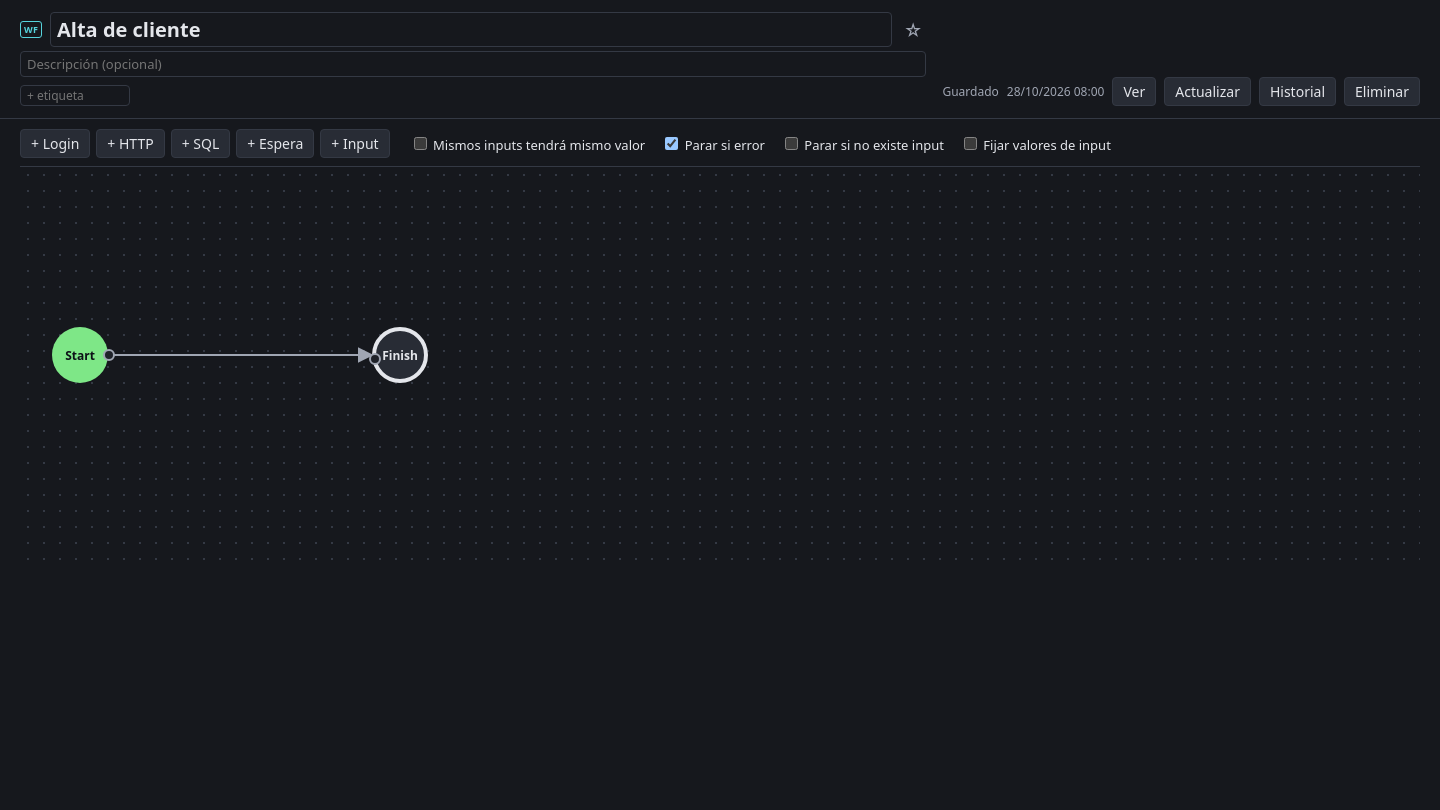
notas workflow › W-14 W-29 sin selección, «+ Login» deja el nodo suelto y su «Usuario» se guarda en values.user
Click the button "+ Login" at (55, 144), box [20,129,90,158]
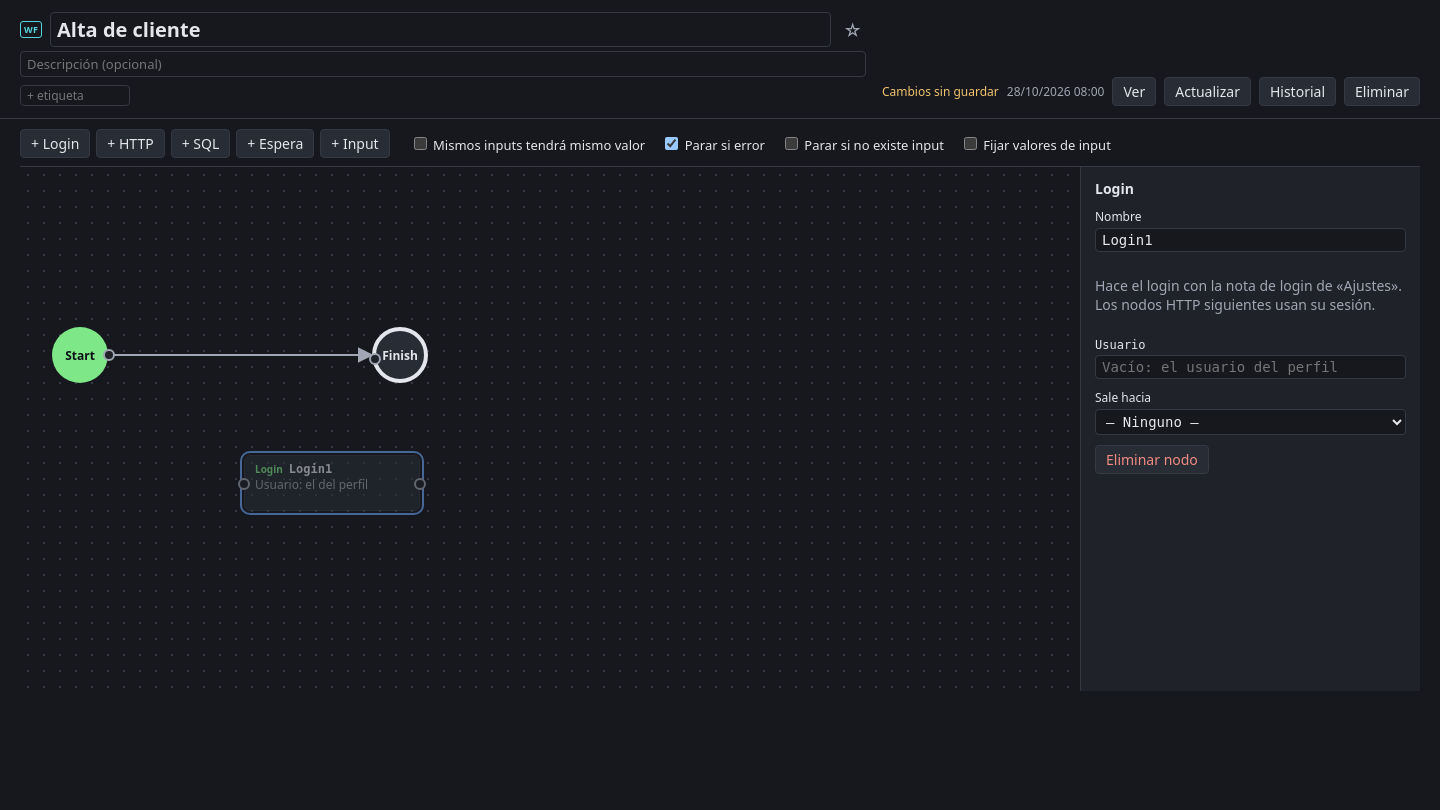
Type "$Input1.user" into the field labelled "Usuario" at (1250, 367), box [1095,355,1406,379]
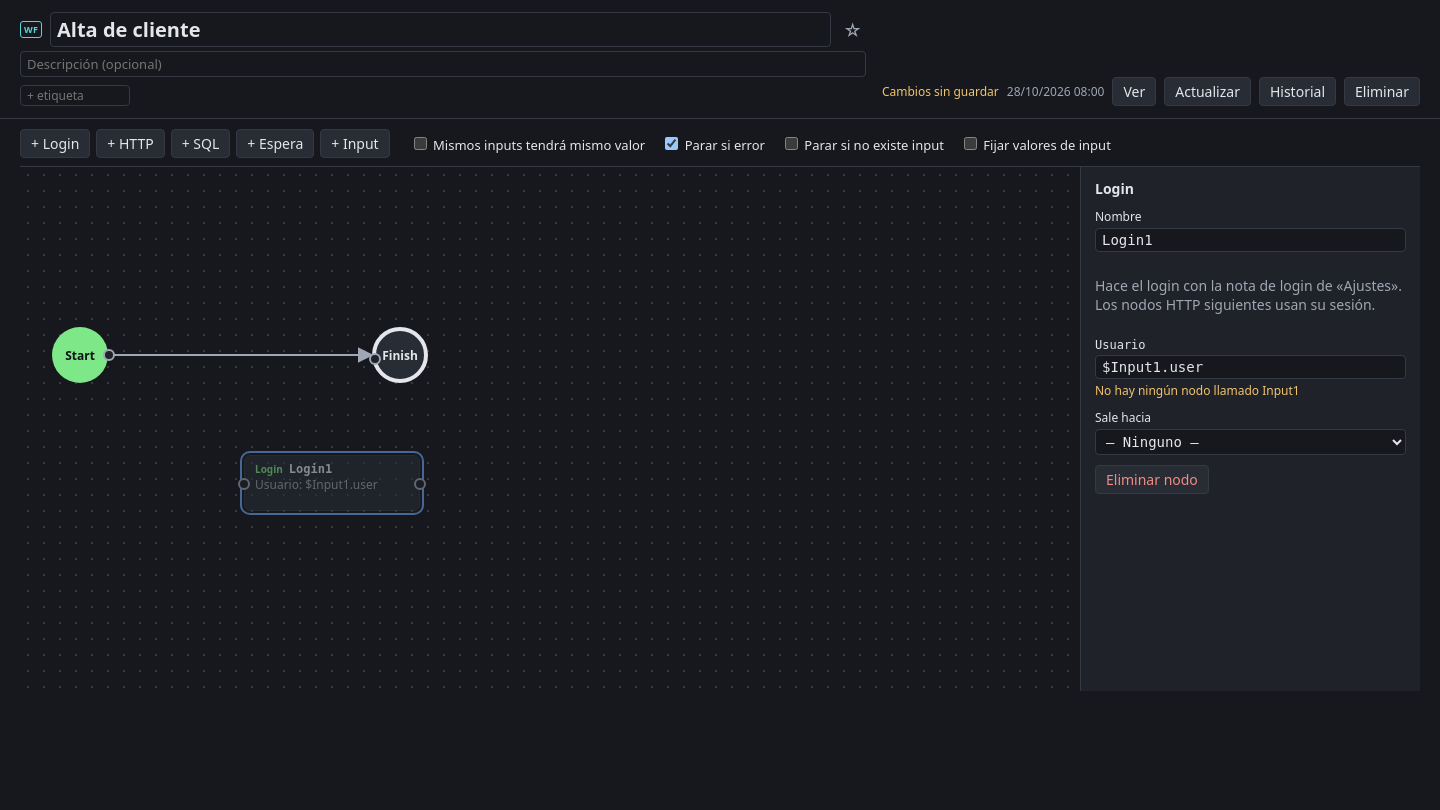
Expected: the text "No hay ningún nodo llamado Input1" is shown, [1095,382,1300,399]
